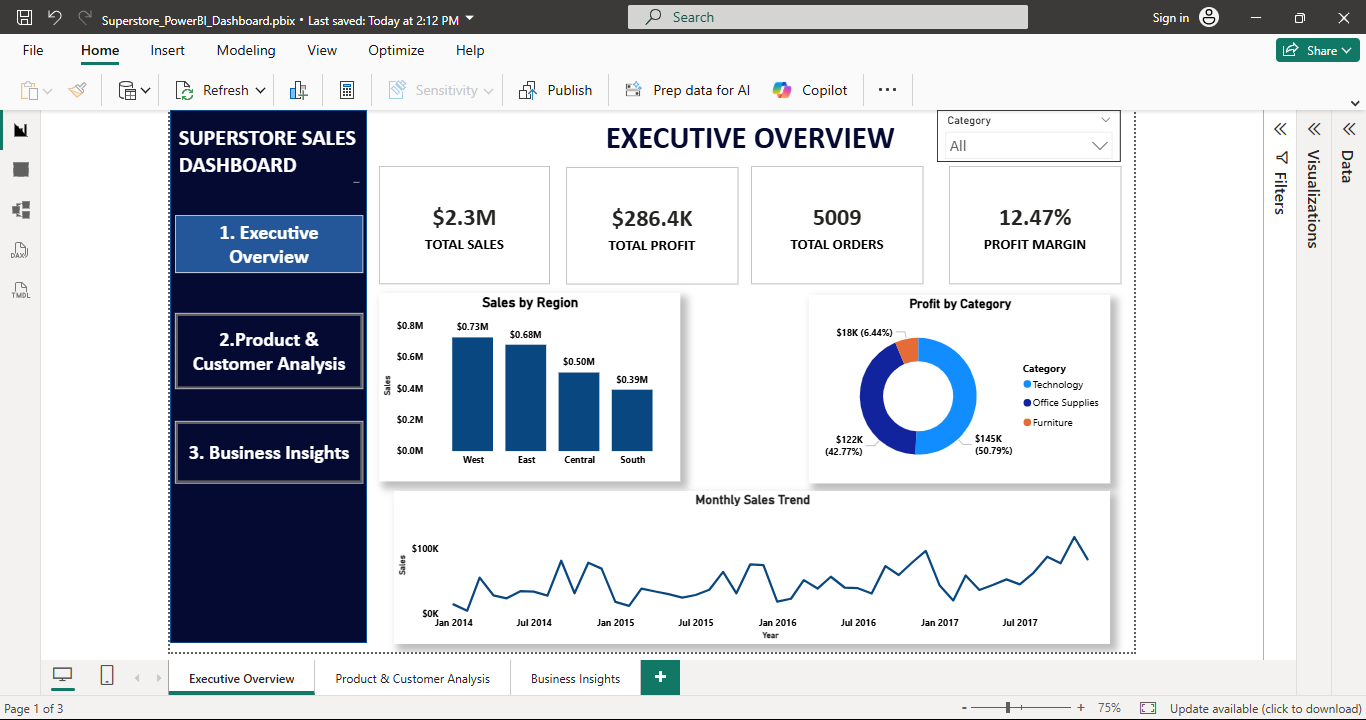

The page's visual inventory and layout, read from the dashboard file:
{"tool":"powerbi","page":{"name":"Executive Overview","canvas":[1280,720],"ordinal":0},"visuals":[{"type":"card","fields":{"Values":["Superstore.TOTAL SALES"]},"box":[277.1,74.3,227.1,157.1],"z":0},{"type":"card","fields":{"Values":["Superstore.TOTAL PROFIT"]},"box":[525.7,75.7,228.6,155.7],"z":1000},{"type":"clusteredColumnChart","fields":{"Category":["Superstore.Region"],"Y":["Sum(Superstore.Sales)"]},"box":[277.1,242.9,400,250],"z":2000},{"type":"card","fields":{"Values":["Superstore.PROFIT MARGIN"]},"box":[1034.3,74.3,228.6,157.1],"z":3000},{"type":"donutChart","fields":{"Y":["Sum(Superstore.Profit)"],"Category":["Superstore.Category"]},"box":[848.6,245.7,400,250],"z":4000},{"type":"lineChart","title":"Monthly Sales Trend","fields":{"Y":["Sum(Superstore.Sales)"],"Category":["Superstore.Order Date.Variation.Date Hierarchy.Year","Superstore.Order Date.Variation.Date Hierarchy.Month"]},"box":[297.1,505.7,951.4,202.9],"z":5000},{"type":"slicer","fields":{"Values":["Superstore.Category"]},"box":[1018.6,0,244.3,68.6],"z":6000},{"type":"shape","box":[0,0,261.7,708.3],"z":7000},{"type":"textbox","title":"SUPERSTORE SALES DASHBOARD","box":[6.7,18.3,250,83.3],"z":8000},{"type":"actionButton","title":"1. Executive Overview","box":[7.1,140,250,77.1],"z":9000},{"type":"actionButton","box":[7.1,270,250,101.4],"z":10000},{"type":"actionButton","box":[7.1,412.9,250,82.9],"z":11000},{"type":"shape","box":[261.4,0,1018.6,74.3],"z":12000},{"type":"card","fields":{"Values":["Superstore.TOTAL ORDERS"]},"box":[771.4,74.3,228.6,157.1],"z":13000}]}

Visuals, with their boxes on the page's 1280x720 design canvas (x1, y1, x2, y2). These are canvas units, not pixel positions in the 1366x720 screenshot, which may show the page scaled, cropped or inside an application window:
card - Superstore.TOTAL SALES: detection(277, 74, 504, 231)
card - Superstore.TOTAL PROFIT: detection(526, 76, 754, 231)
clusteredColumnChart - Superstore.Region x Sum(Superstore.Sales): detection(277, 243, 677, 493)
card - Superstore.PROFIT MARGIN: detection(1034, 74, 1263, 231)
donutChart - Sum(Superstore.Profit) x Superstore.Category: detection(849, 246, 1249, 496)
"Monthly Sales Trend" lineChart: detection(297, 506, 1248, 709)
slicer - Superstore.Category: detection(1019, 0, 1263, 69)
shape: detection(0, 0, 262, 708)
"SUPERSTORE SALES DASHBOARD" textbox: detection(7, 18, 257, 102)
"1. Executive Overview" actionButton: detection(7, 140, 257, 217)
actionButton: detection(7, 270, 257, 371)
actionButton: detection(7, 413, 257, 496)
shape: detection(261, 0, 1280, 74)
card - Superstore.TOTAL ORDERS: detection(771, 74, 1000, 231)
